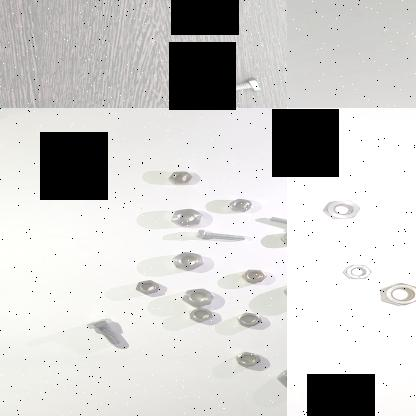Bolts: (82, 316, 134, 356), (216, 74, 266, 100), (188, 229, 249, 245), (264, 212, 287, 234)
NUTS: (318, 197, 361, 223), (377, 281, 416, 309), (174, 285, 214, 311), (170, 249, 209, 274), (158, 209, 206, 229), (128, 276, 168, 300), (230, 350, 270, 372), (160, 167, 198, 190), (220, 197, 258, 213), (342, 261, 372, 280), (184, 308, 214, 324), (240, 267, 266, 285), (236, 312, 264, 328), (274, 367, 287, 392), (278, 228, 287, 248)
